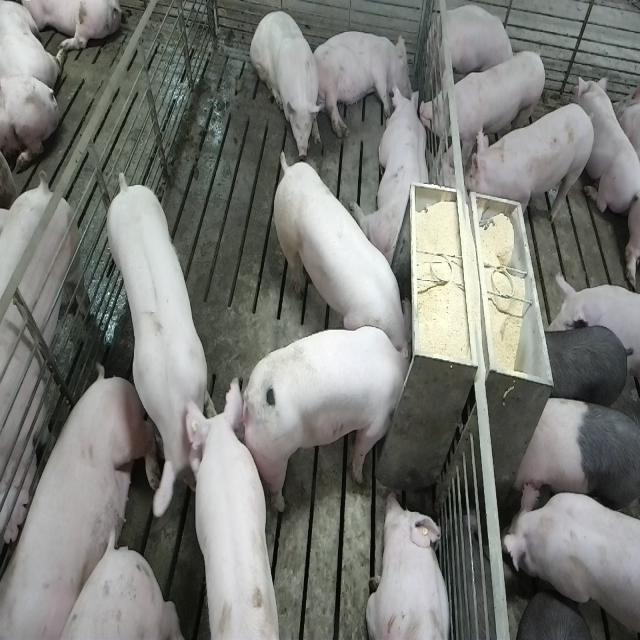Feeding: (248, 325, 420, 513), (269, 143, 410, 355)
Lateral_lying: (311, 29, 413, 140)
Sitting: (250, 6, 324, 160)
Standing: (105, 170, 219, 515), (0, 177, 91, 565), (180, 379, 279, 640), (499, 480, 638, 640), (465, 100, 598, 227), (512, 394, 638, 519), (421, 46, 548, 166), (532, 322, 634, 411)
Sternal_lying: (356, 85, 432, 268), (365, 490, 453, 640), (576, 73, 638, 221), (432, 4, 515, 86)
